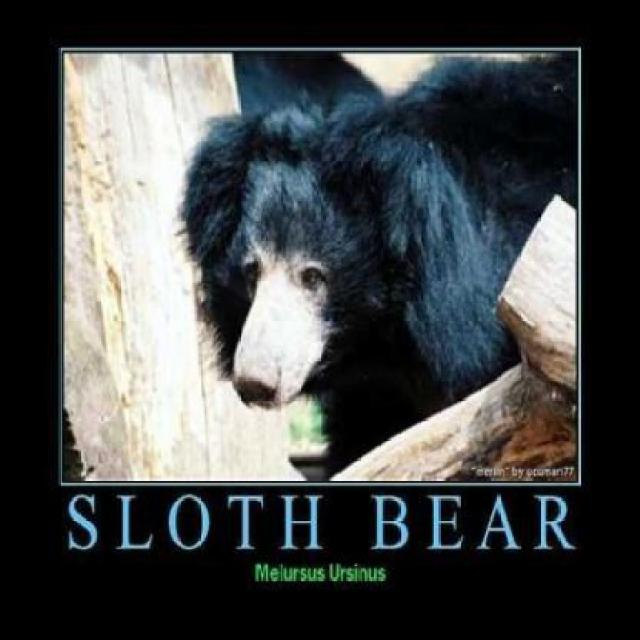Bear: (175, 91, 508, 457)
